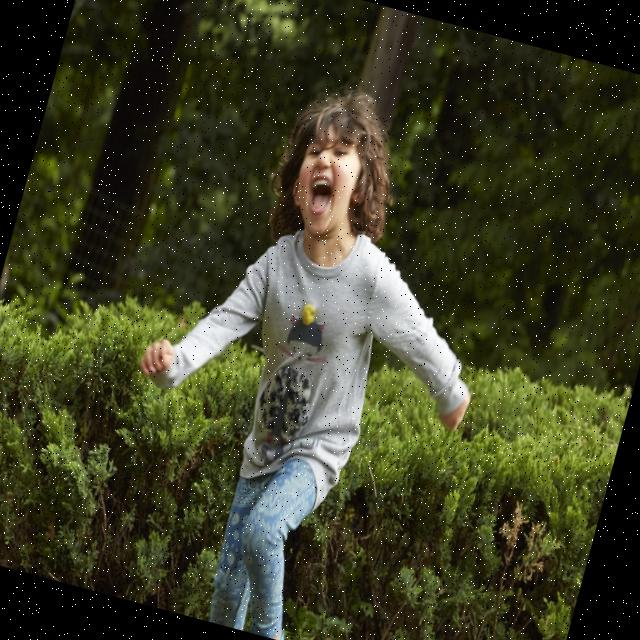Person: (80, 53, 540, 640)
